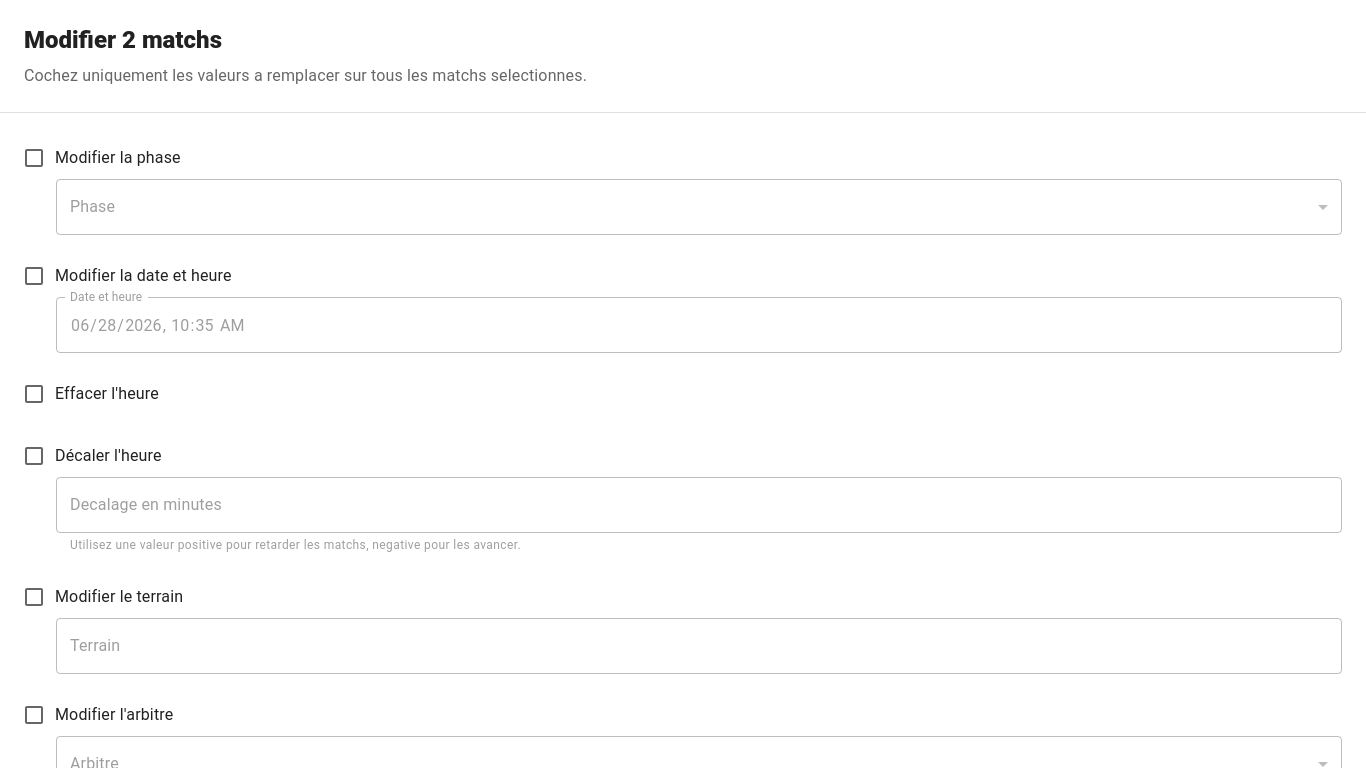
Test: BulkUpdateGamesForm › should require a non-zero integer time offset
The width and height of the screenshot is (1366, 768).
Click the checkbox labelled "Décaler l'heure": click(92, 456) [22,444,162,468]
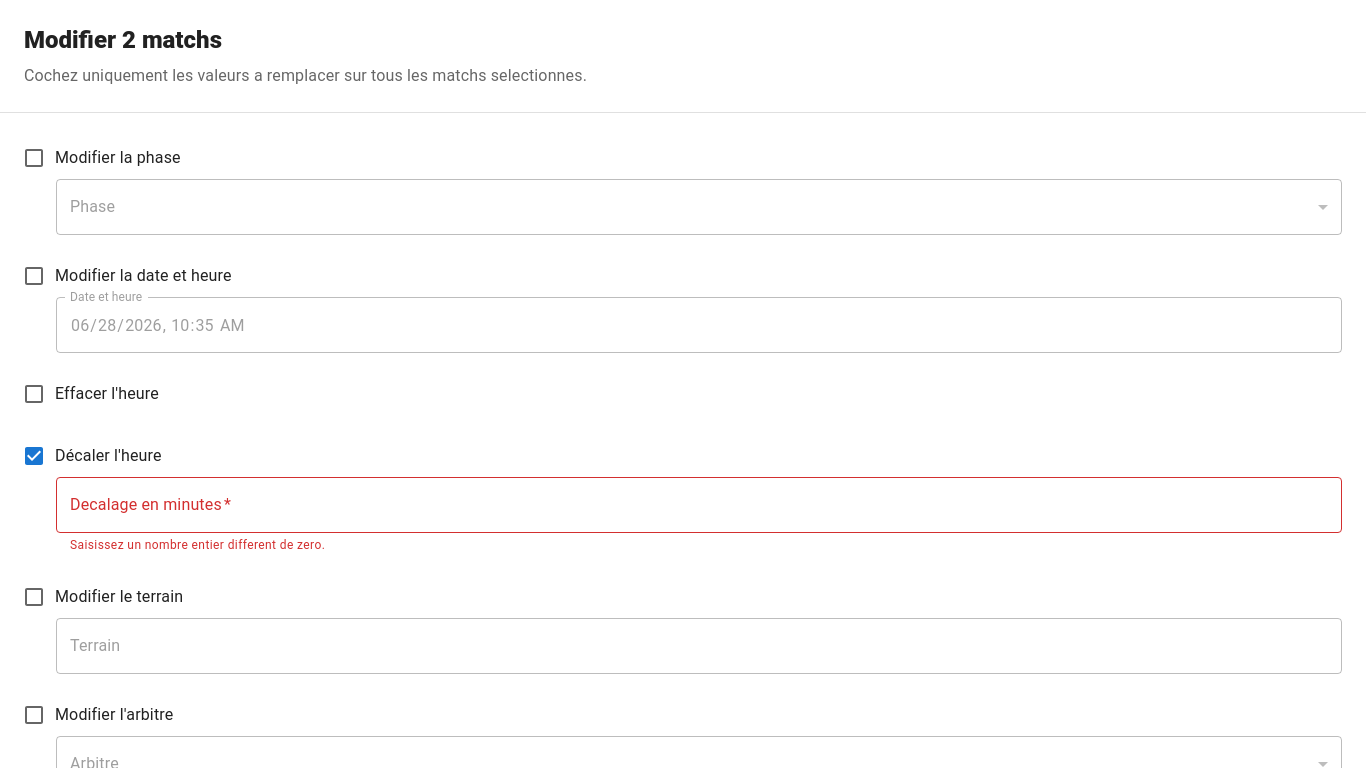
expect the text "Saisissez un nombre entier different de zero." is shown: met, box [70,538,325,552]
In the number field labelled "Decalage en minutes": (699, 505) [56,477,1342,533], type "1.5"
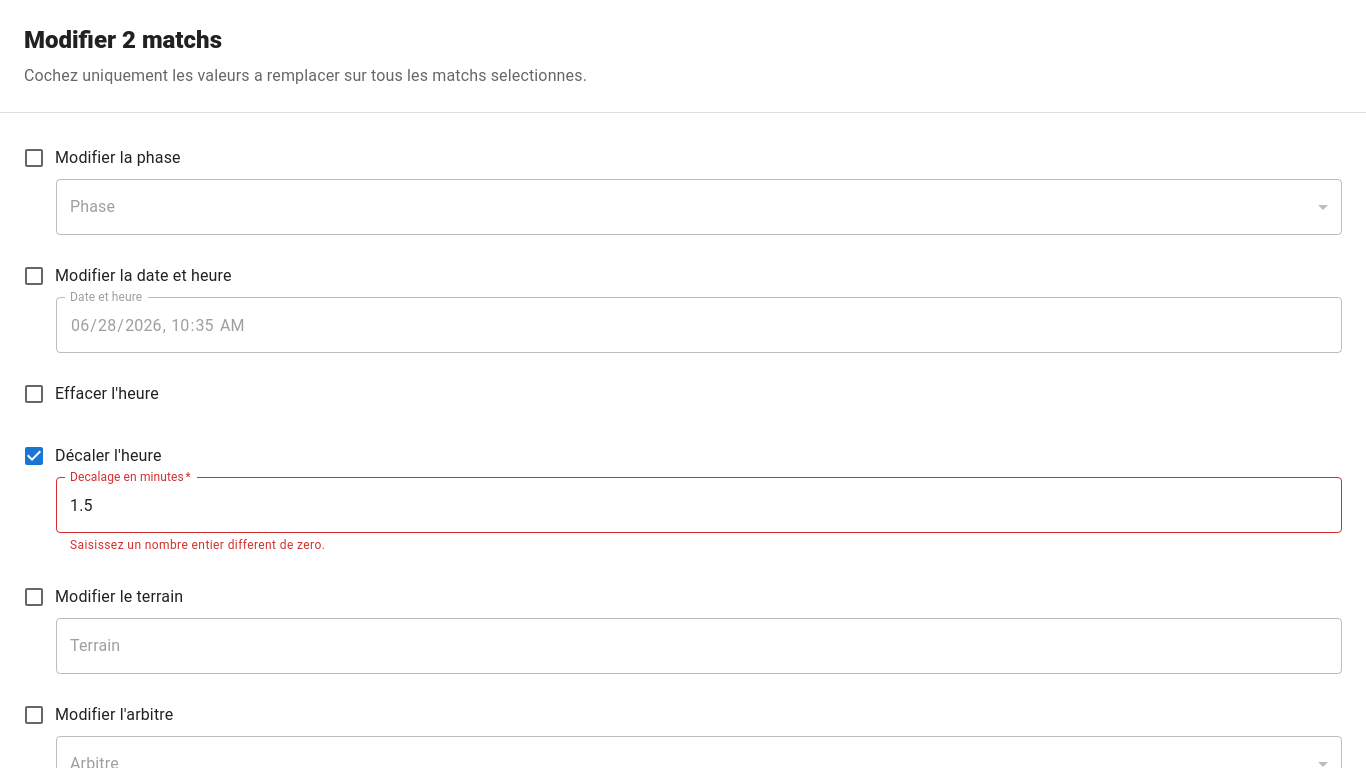
Replace the text in the number field labelled "Decalage en minutes" with "0": (699, 505) [56,477,1342,533]
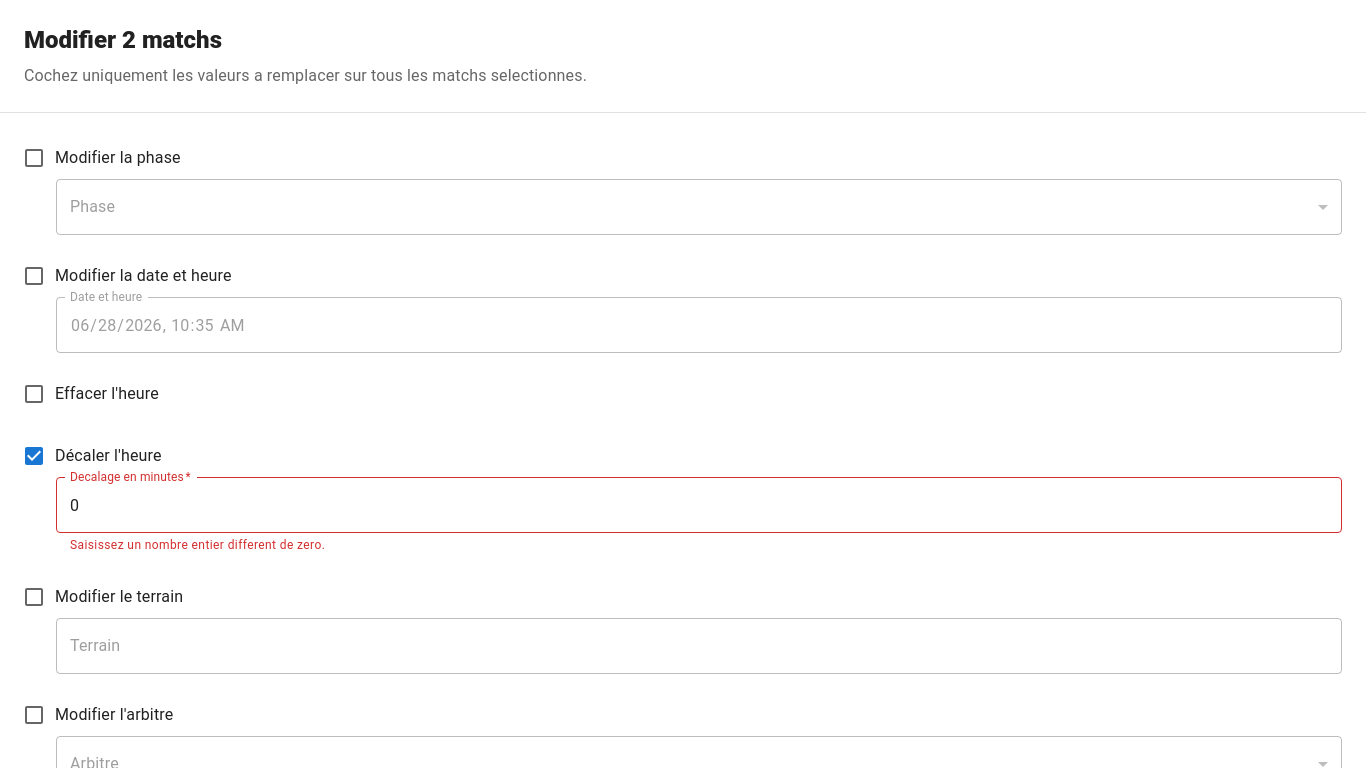
Replace the text in the number field labelled "Decalage en minutes" with "-1": (699, 505) [56,477,1342,533]
(page scrolled)
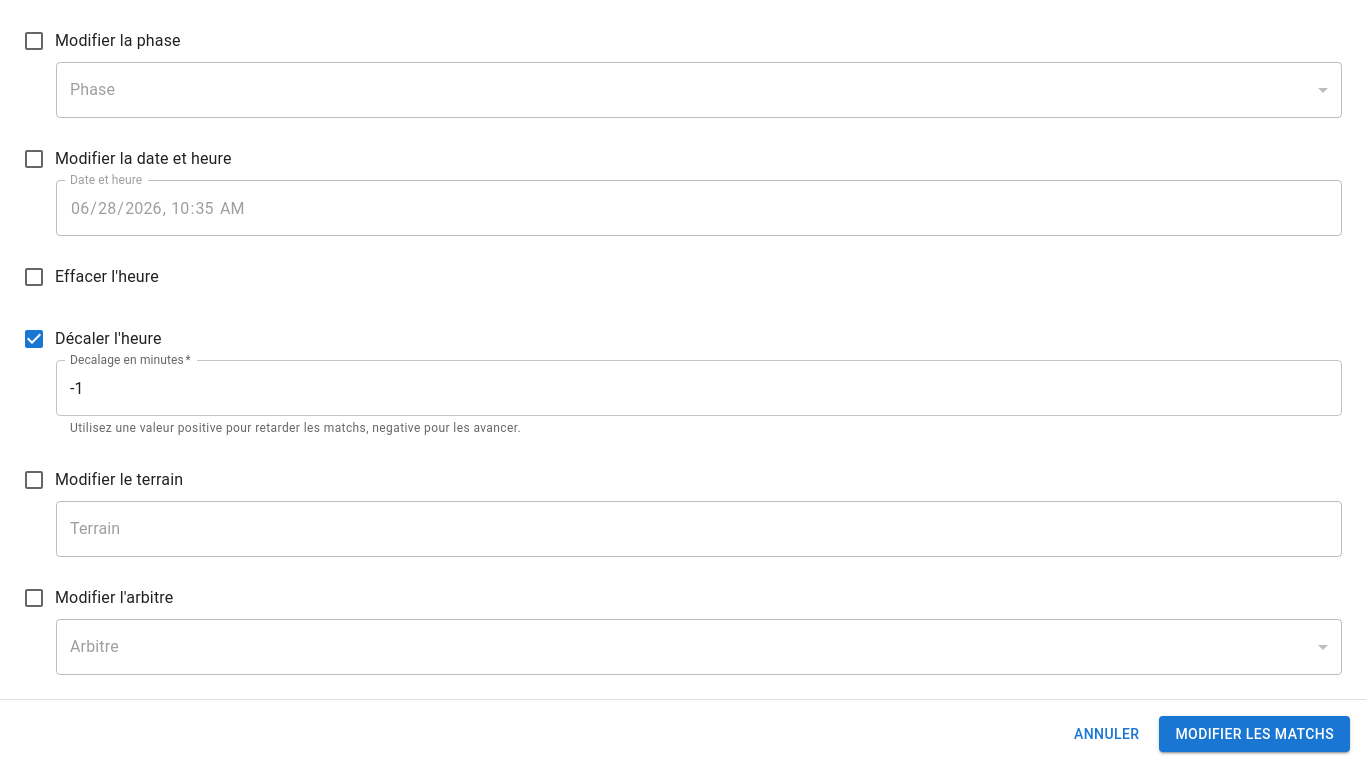
expect the button "Modifier les matchs" is enabled: met, box [1159,716,1350,752]
